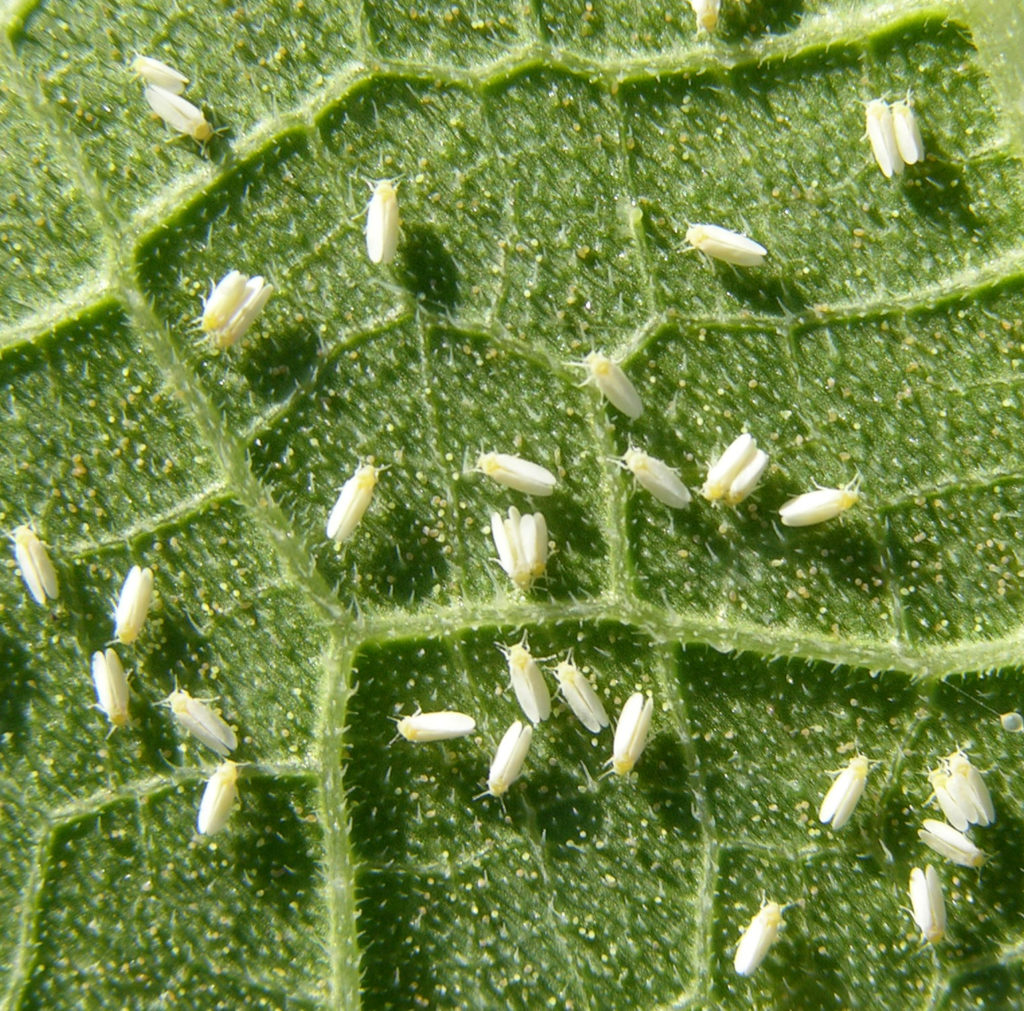Tobacco Whitefly: (295, 450, 402, 619), (462, 471, 575, 607), (82, 536, 176, 676), (159, 671, 267, 776), (61, 614, 147, 745), (562, 338, 662, 436), (345, 176, 430, 291), (353, 694, 482, 765), (185, 762, 259, 881), (775, 471, 873, 551), (836, 104, 930, 185), (608, 688, 684, 782), (199, 267, 279, 354), (10, 516, 72, 628), (482, 714, 535, 845), (684, 205, 762, 281), (618, 439, 681, 522)
